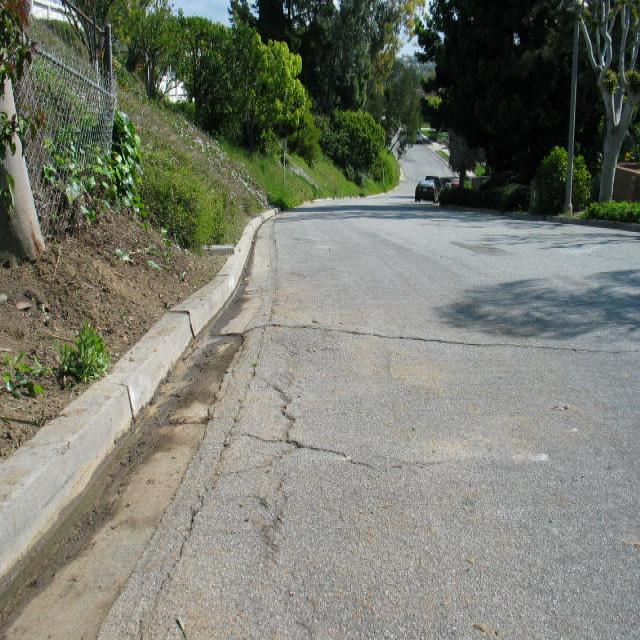Pothole: (7, 209, 307, 640)
